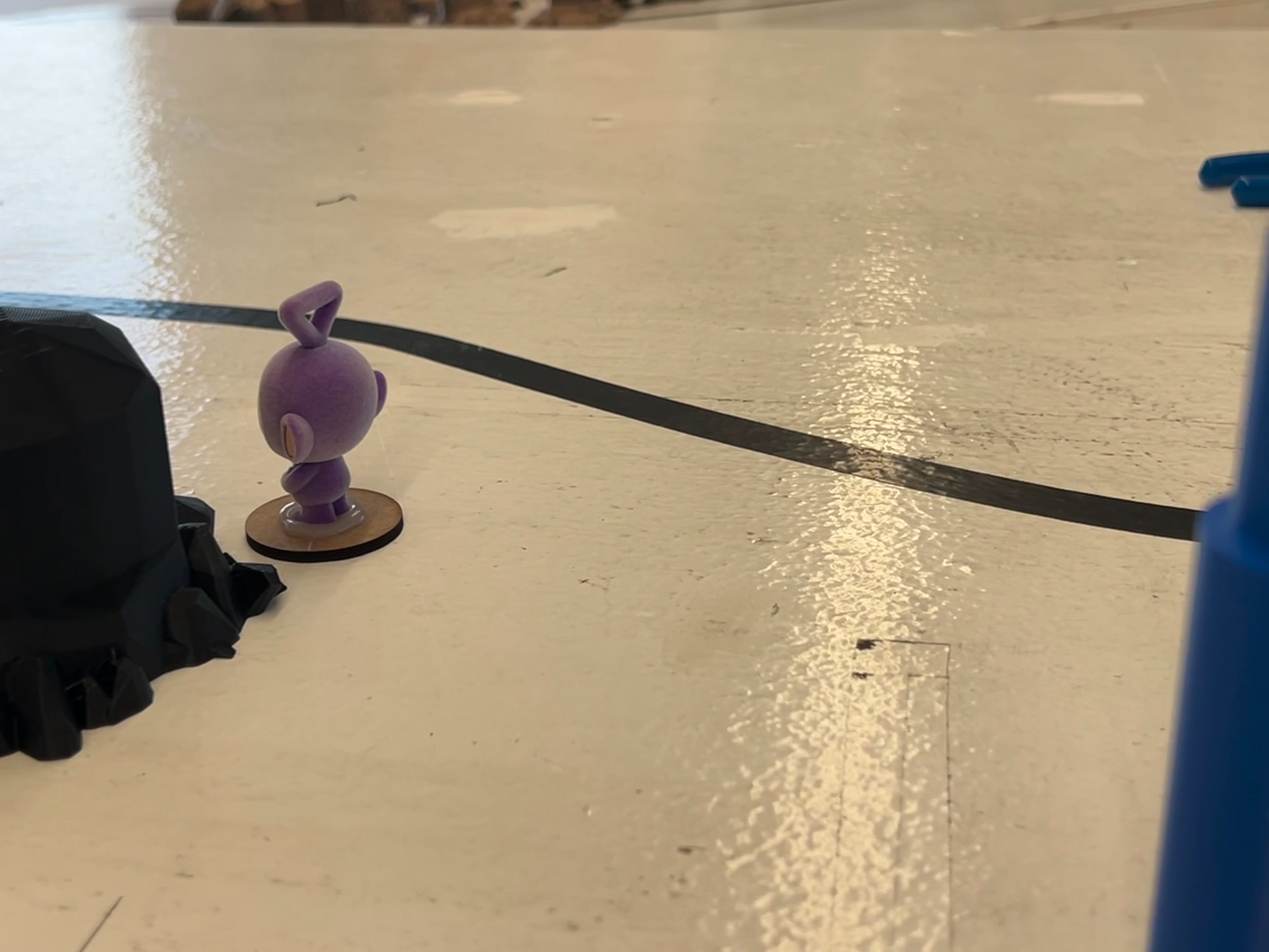teletubby: (257, 281, 387, 524)
